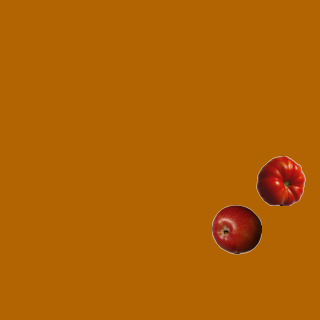Apple Braeburn: (211, 204, 261, 254)
Tomato 3: (255, 155, 305, 205)
